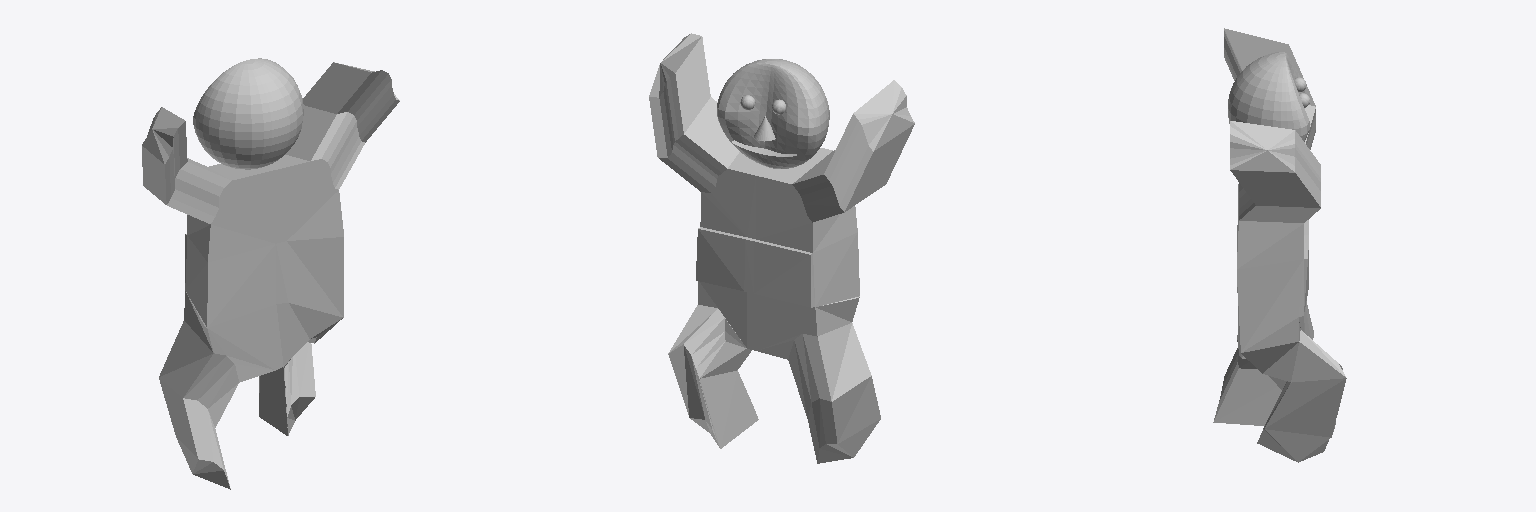
Rendered from man_000013.obj.
3 views of the same model, side by side, from view 1: azimuth 30°, elevation 25°; view 2: azimuth 150°, elevation 25°; view 3: azimuth 270°, elevation 25° (orthographic).
Visible parts, largest first — view 1: Cube; view 2: Cube; view 3: Cube.
Part boxes in pixels (x1,y1,x2,y2): Cube: (142,58,399,489); Cube: (649,33,914,463); Cube: (1213,28,1346,462).
Bounding box in the file's own units: 79.08 × 124 × 38.35.